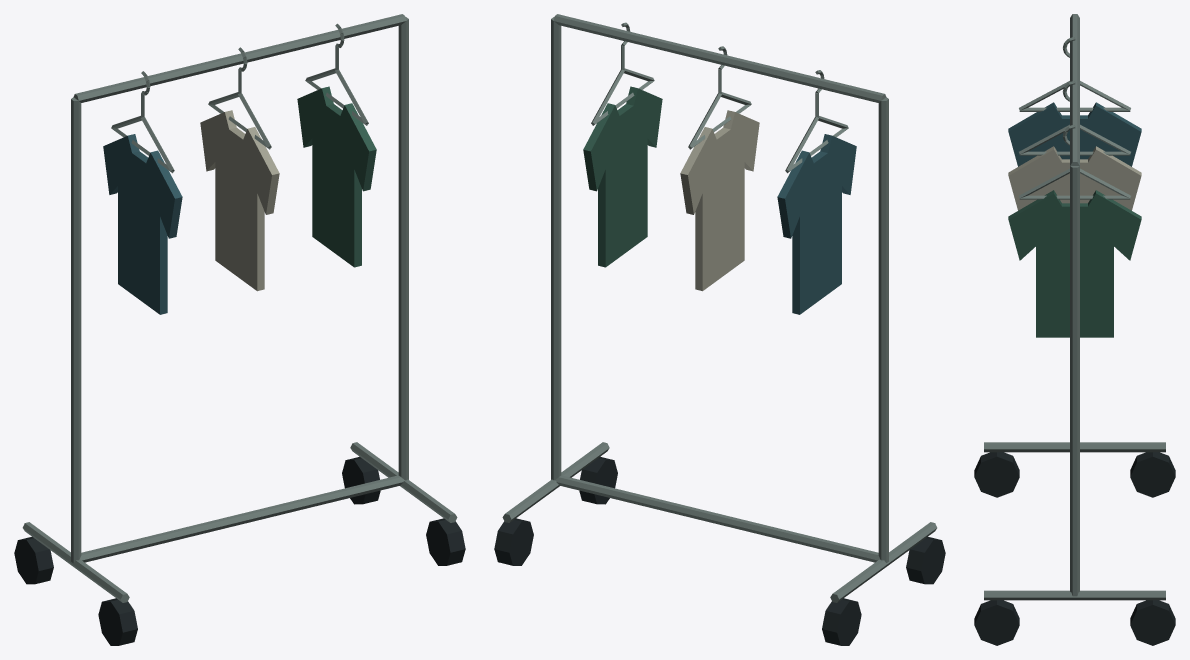
The picture shows the model from 3 angles, left to right: view 1: azimuth 30°, elevation 25°; view 2: azimuth 150°, elevation 25°; view 3: azimuth 270°, elevation 25°; orthographic projection. The views are drawn at different scales.
Visible parts, largest first — view 1: a55; view 2: a55; view 3: a55.
Part boxes in pixels (x1,y1,x2,y2): a55: (14,14,465,645); a55: (494,14,945,645); a55: (974,14,1175,645).
Size of the model in its own units: 1.13 by 1.66 by 0.62.
